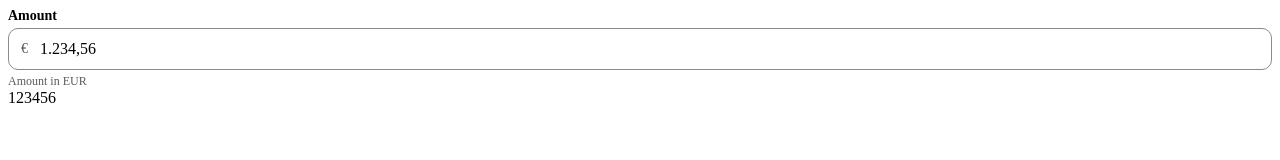
MoneyInput › uses the locale decimal separator and currency symbol
Click the field labelled "Amount" at (650,49), box [28,32,1271,66]
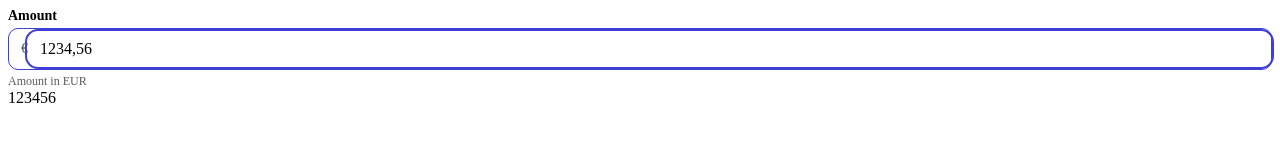
Expected: the field labelled "Amount" holds "1234,56"
Replace the text in the field labelled "Amount" with "0,07" at (650,49), box [28,32,1271,66]
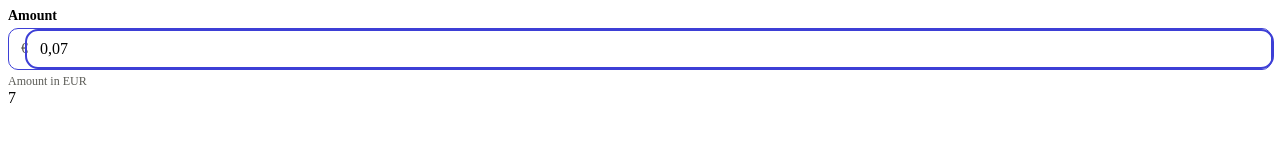
Expected: the text with test id "cents" reads "7", [8,89,16,106]
